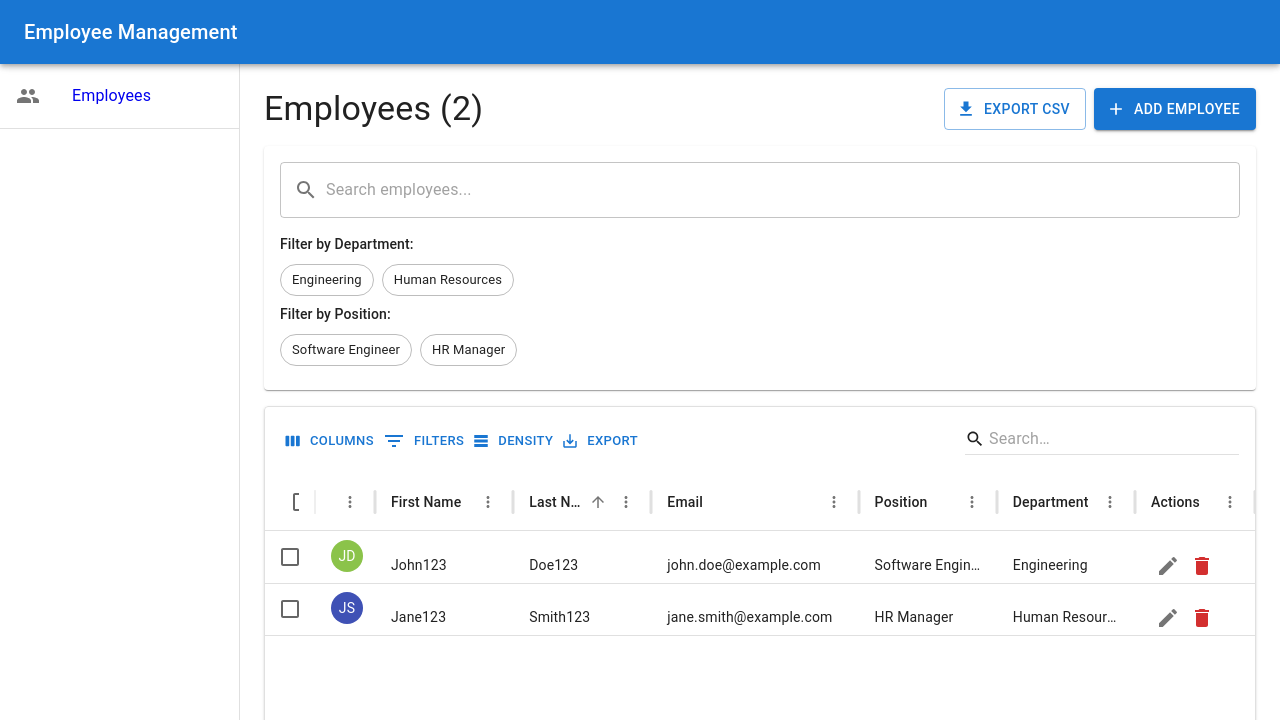
Test case: Employee List › should open delete confirmation dialog when delete button is clicked
Note: Find and click the first delete button with data-testid
Click the button with test id "delete-employee-0" at (1202, 566), box [1185,549,1219,583]
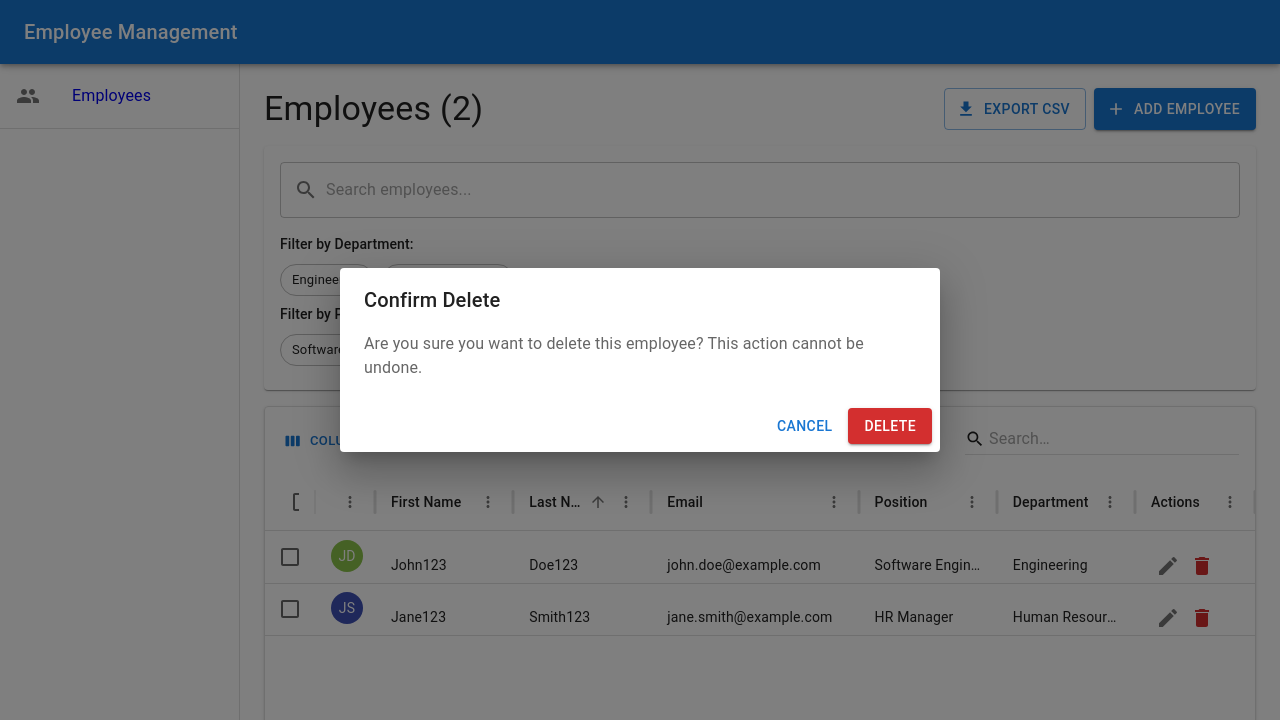
Check: the heading "Confirm Delete" is shown, box [364,288,500,312]
Check: the text "Are you sure you want to delete this employee?" is shown, box [364,334,864,377]
Check: the button "Cancel" is shown, box [769,408,840,444]
